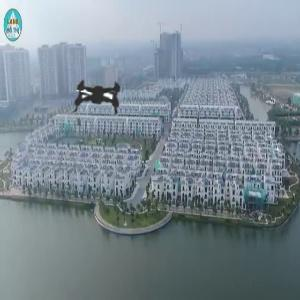drone: (18, 18, 170, 170)
